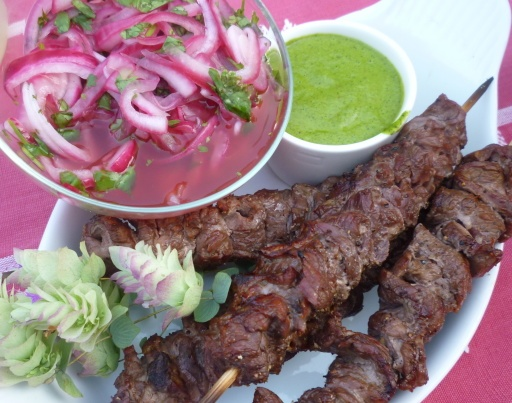background: (2, 0, 409, 254)
